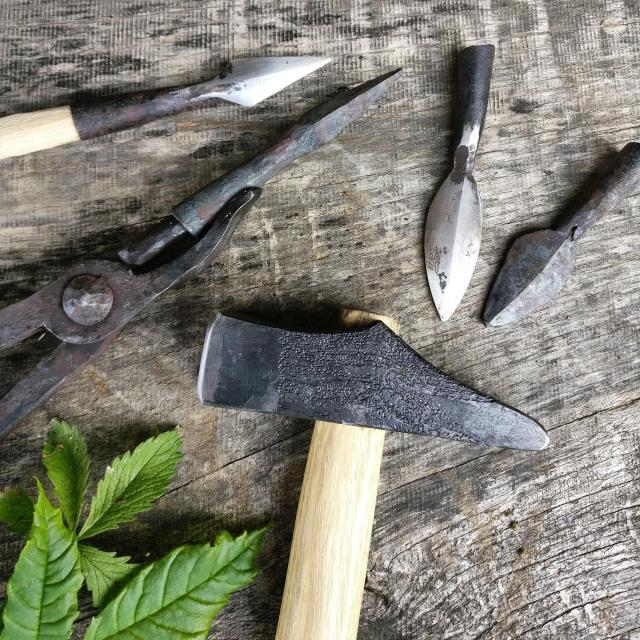hammer: (192, 286, 560, 640)
